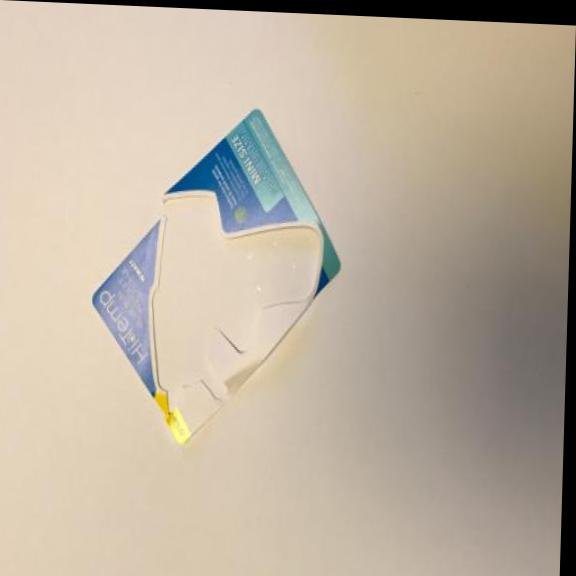Kertas: (84, 94, 351, 461)
